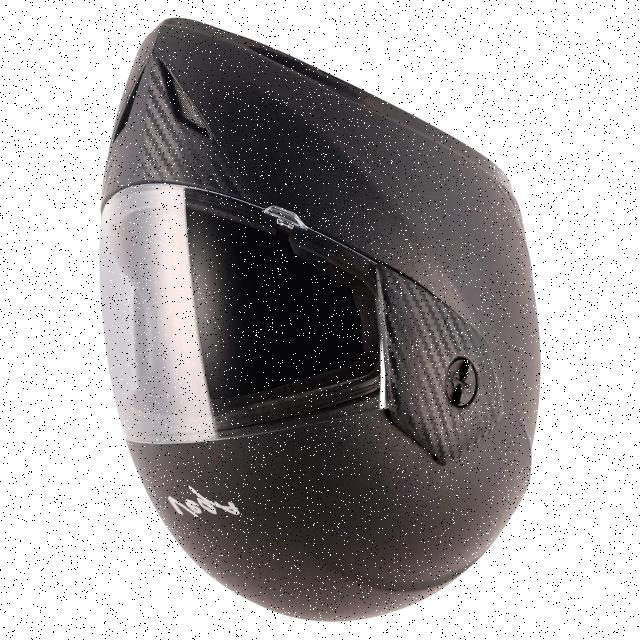Helmet: (79, 21, 546, 640)
